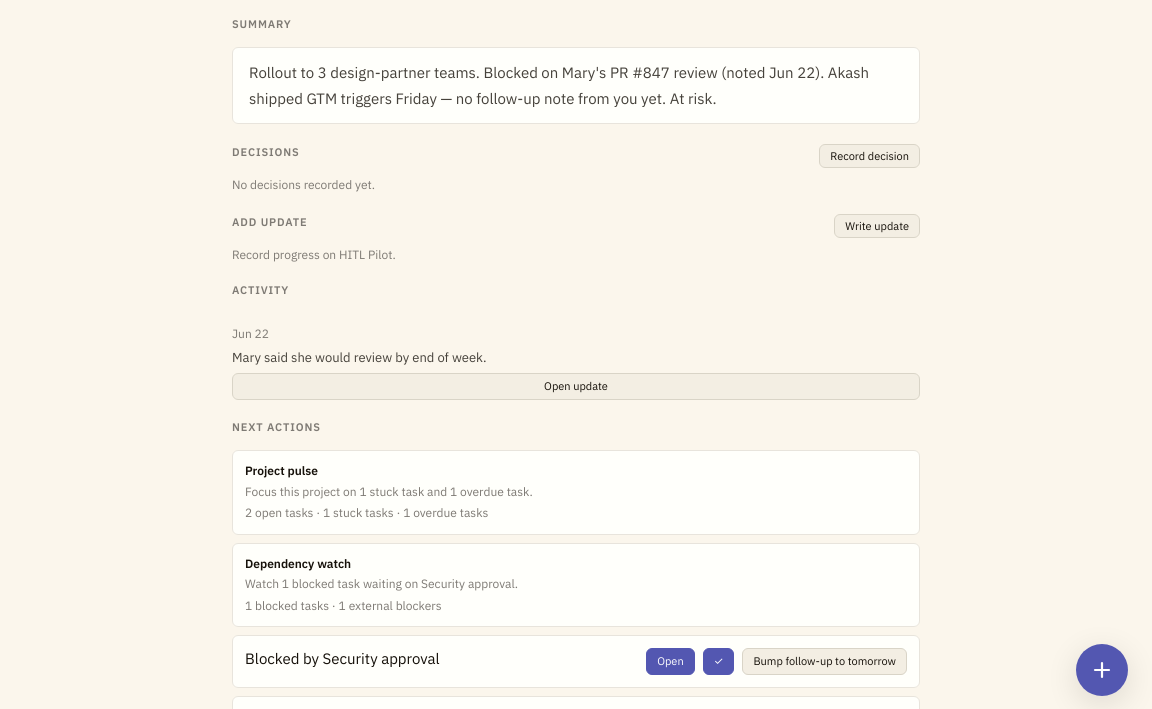
Test: V5ThreadDetail › opens generic capture from thread detail without using activity update API
(page scrolled)
Click the button named "Open capture" at (1102, 670), box x1=1076 y1=644 x2=1128 y2=696
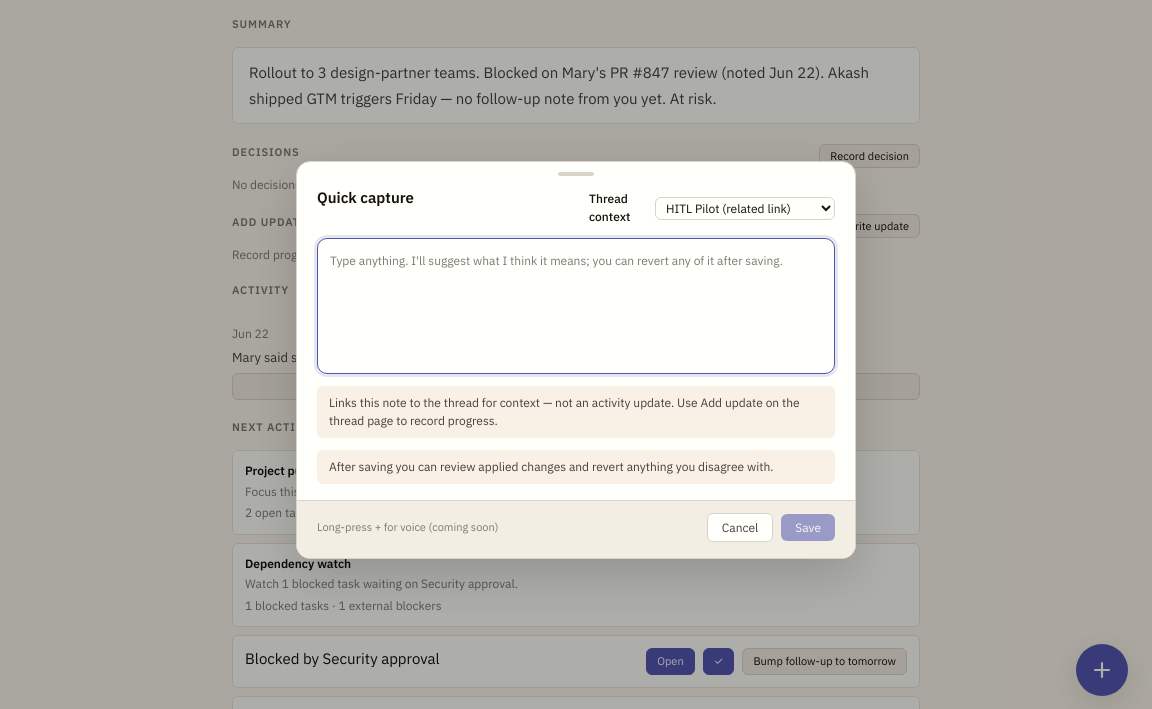
Now the dropdown named "Capture thread context" shows "HITL Pilot (related link)", box x1=655 y1=197 x2=835 y2=220
